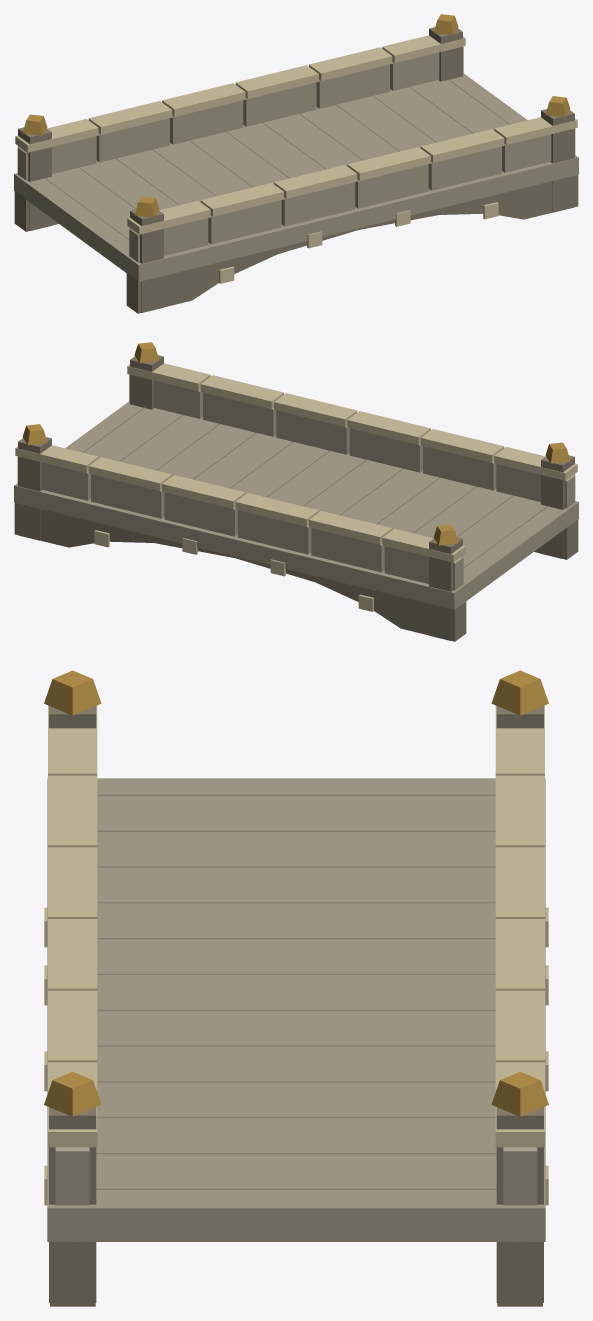
File: stone-bridge.glb
The picture shows the model from 3 angles, top to bottom: view 1: azimuth 30°, elevation 25°; view 2: azimuth 150°, elevation 25°; view 3: azimuth 270°, elevation 25°; orthographic projection. The views are drawn at different scales.
Visible parts, largest first — view 1: stone-bridge; view 2: stone-bridge; view 3: stone-bridge.
Part boxes in pixels (<box>): stone-bridge: <box>14,14,578,313</box>; stone-bridge: <box>14,342,578,641</box>; stone-bridge: <box>44,670,548,1306</box>.
Bounding box in the file's own units: 6 × 1.38 × 2.98.
